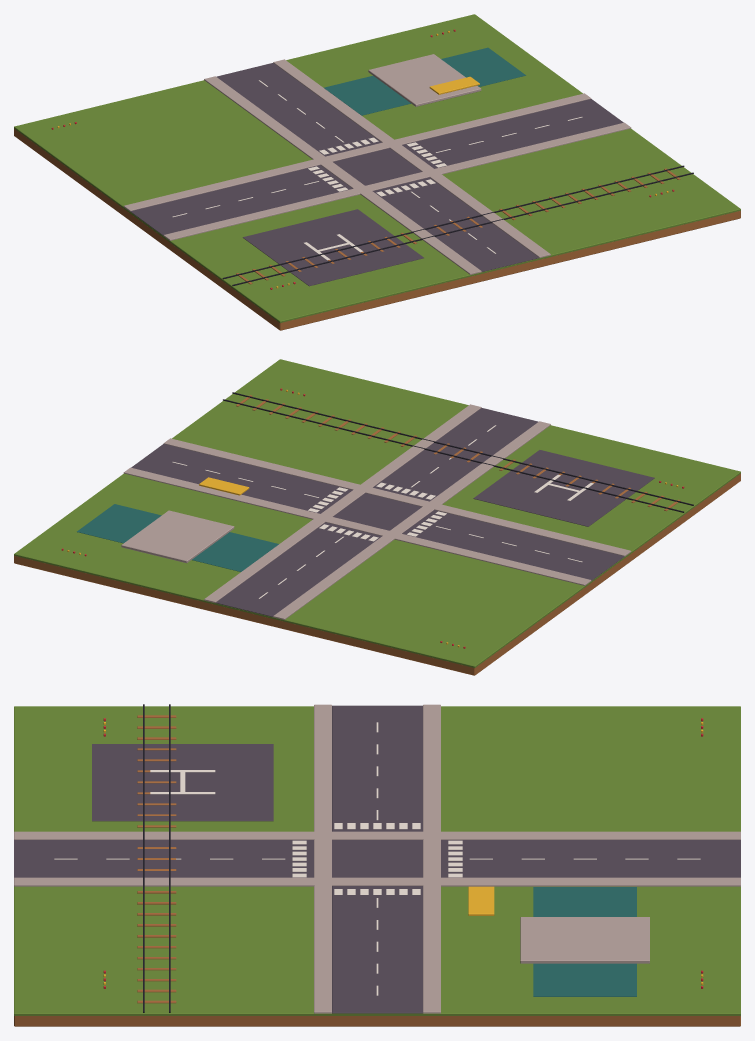
File: D-EDGE.base.glb
3 renders of one model, top to bottom at view 1: azimuth 30°, elevation 25°; view 2: azimuth 150°, elevation 25°; view 3: azimuth 270°, elevation 25°, orthographic. The views are drawn at different scales.
Visible parts, largest first — view 1: pal_grass, pal_asphalt, pal_sidewalk, pal_woodWarm, pal_backpackTeal, pal_uiDark, pal_picketWhite; view 2: pal_grass, pal_asphalt, pal_sidewalk, pal_woodWarm, pal_backpackTeal, pal_uiDark, pal_picketWhite; view 3: pal_grass, pal_asphalt, pal_sidewalk, pal_woodWarm, pal_backpackTeal, pal_picketWhite, pal_uiDark, collapse-canopy.
Part boxes in pixels (<box>): pal_grass: <box>14,14,740,322</box>; pal_asphalt: <box>130,63,623,286</box>; pal_sidewalk: <box>123,54,631,274</box>; pal_woodWarm: <box>14,128,740,330</box>; pal_backpackTeal: <box>324,47,525,115</box>; pal_uiDark: <box>222,165,693,285</box>; pal_picketWhite: <box>172,80,582,260</box>; pal_grass: <box>14,359,740,667</box>; pal_asphalt: <box>131,408,654,616</box>; pal_sidewalk: <box>121,404,631,619</box>; pal_woodWarm: <box>14,395,740,675</box>; pal_backpackTeal: <box>77,504,278,571</box>; pal_uiDark: <box>223,392,693,512</box>; pal_picketWhite: <box>172,425,593,598</box>; pal_grass: <box>14,706,740,1015</box>; pal_asphalt: <box>14,705,740,1013</box>; pal_sidewalk: <box>14,704,740,1013</box>; pal_woodWarm: <box>14,715,740,1026</box>; pal_backpackTeal: <box>533,887,636,996</box>; pal_picketWhite: <box>54,722,700,995</box>; pal_uiDark: <box>143,704,170,1012</box>; collapse-canopy: <box>468,886,494,915</box>.
Size of the model in its own units: 56 by 4.25 by 56.
